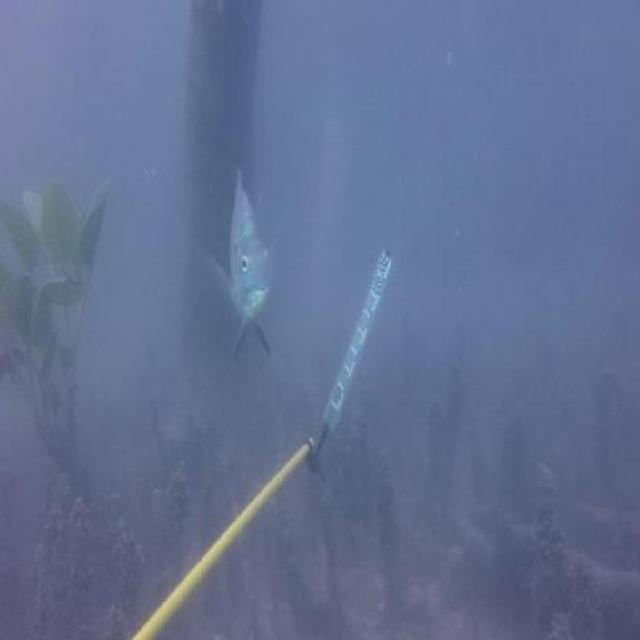acanthopagrus_palmaris: (216, 144, 284, 364)
